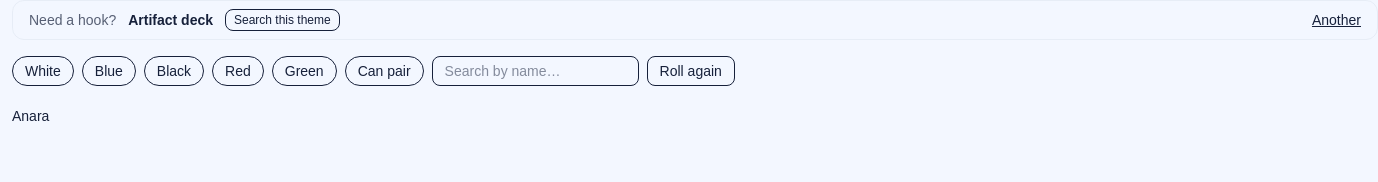
CommanderBrowser › shows the active theme and clears it on request
This screenshot has width=1378, height=182.
Expected: the text "Anara" is shown, [12,108,49,124]
Step 1. Click the button "Search this theme" → (282, 20), box [225,9,340,31]
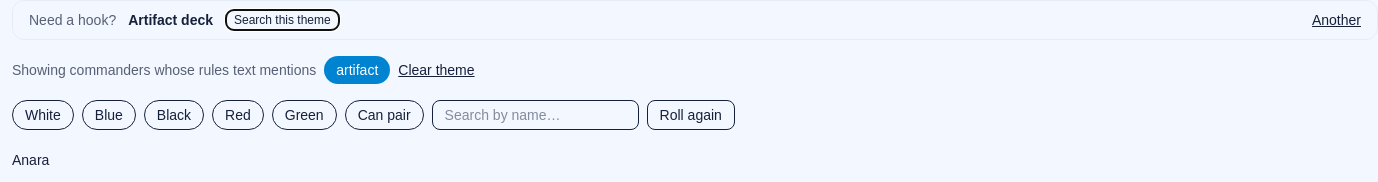
Expected: the text "Showing commanders whose rules text mentions" is shown, [12,60,316,80]
Step 2. Click the button "Clear theme" → (436, 70), box [398,60,475,80]
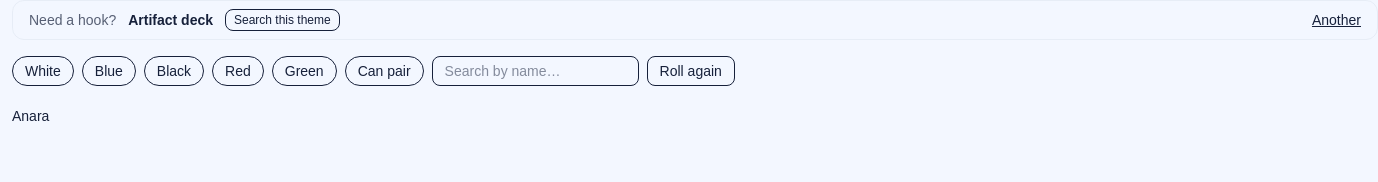
Expected: the text "rules text mentions" is gone
